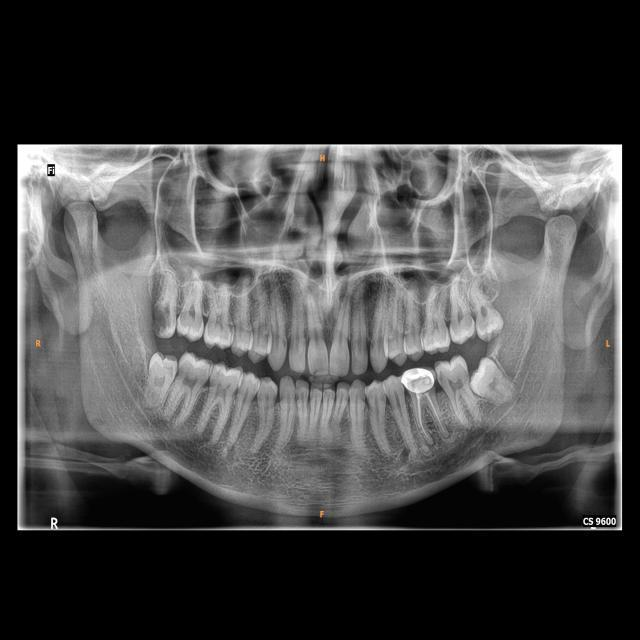dentin-curugu: (150, 300, 175, 334), (178, 362, 194, 382)
kanal-tedavisi: (413, 391, 443, 438)
kaplama: (402, 366, 433, 394)
